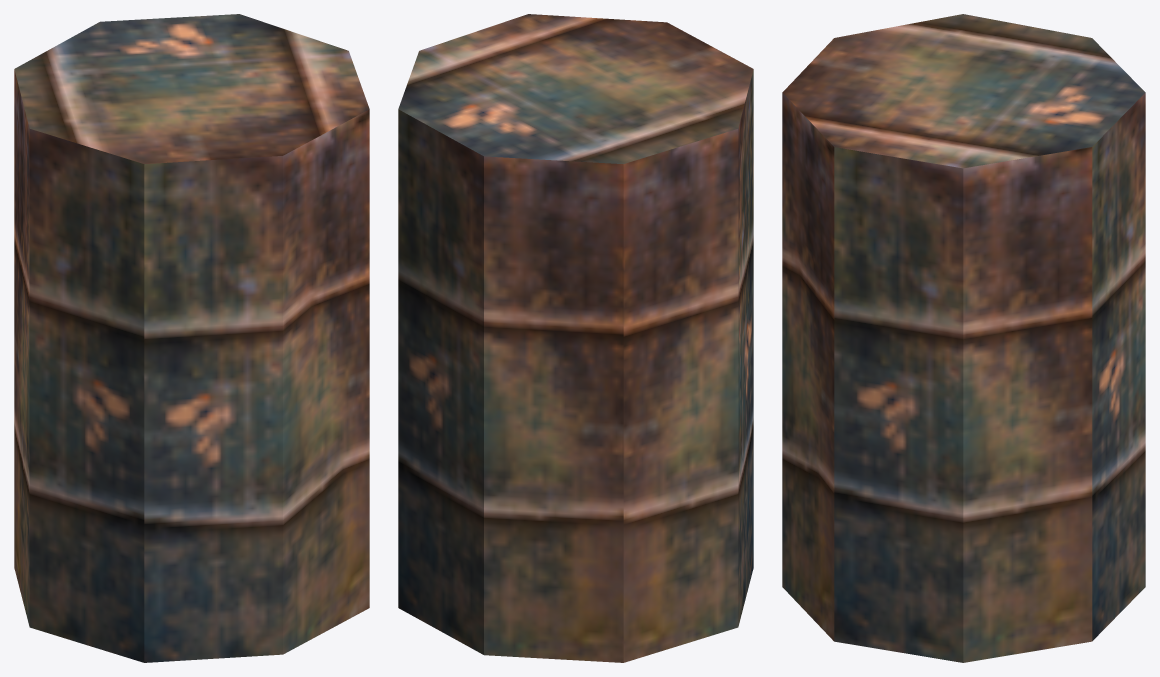
File: Bochka.fbx
3 views of the same model, side by side, from view 1: azimuth 30°, elevation 25°; view 2: azimuth 150°, elevation 25°; view 3: azimuth 270°, elevation 25° (orthographic).
Visible parts, largest first — view 1: Cube; view 2: Cube; view 3: Cube.
Boxes of the visible parts, x1,y1,x2,y2 form: Cube: (14,14,369,662); Cube: (398,14,753,662); Cube: (782,14,1145,662).
Bounding box in the file's own units: 283 × 423 × 282.
1 material, 1 textured.
